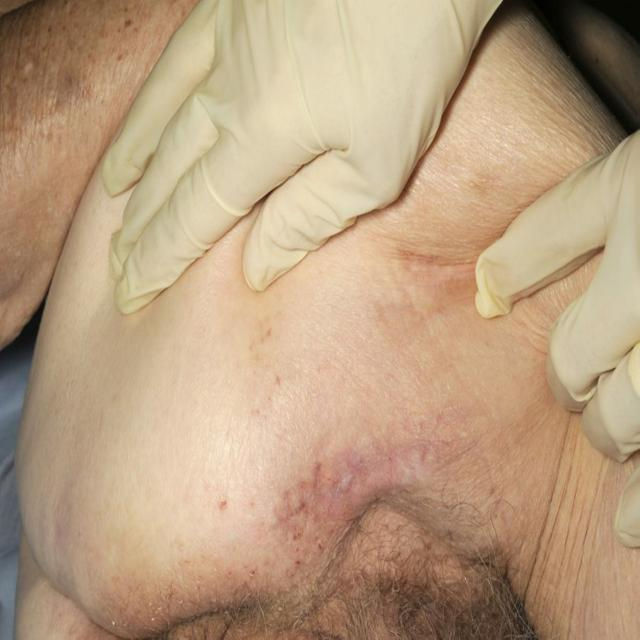wound: (263, 393, 538, 575)
